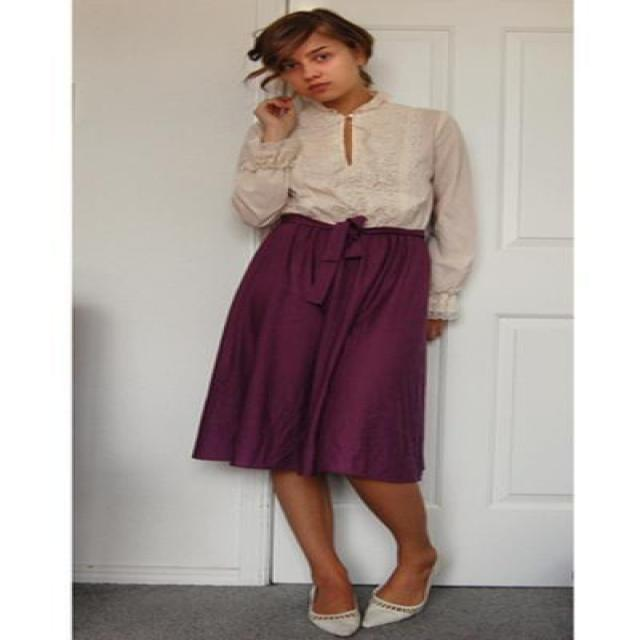shirt: (229, 95, 478, 319)
shoe: (308, 584, 458, 634)
skirt: (192, 211, 435, 490)
